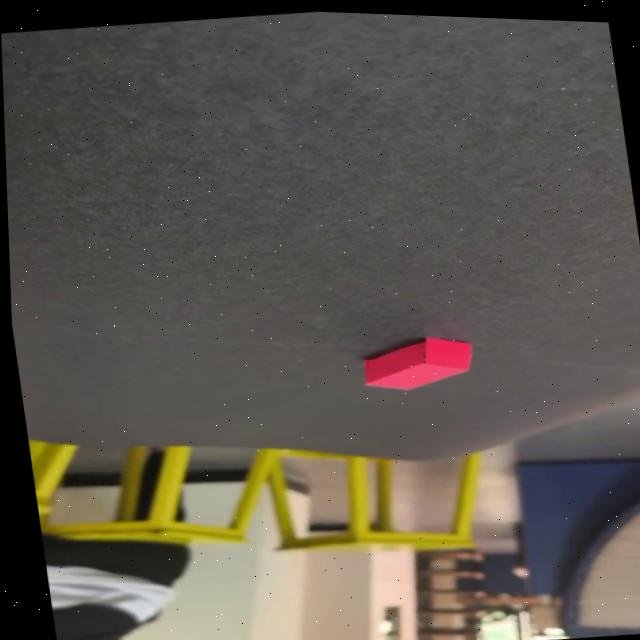red block: (354, 329, 477, 398)
